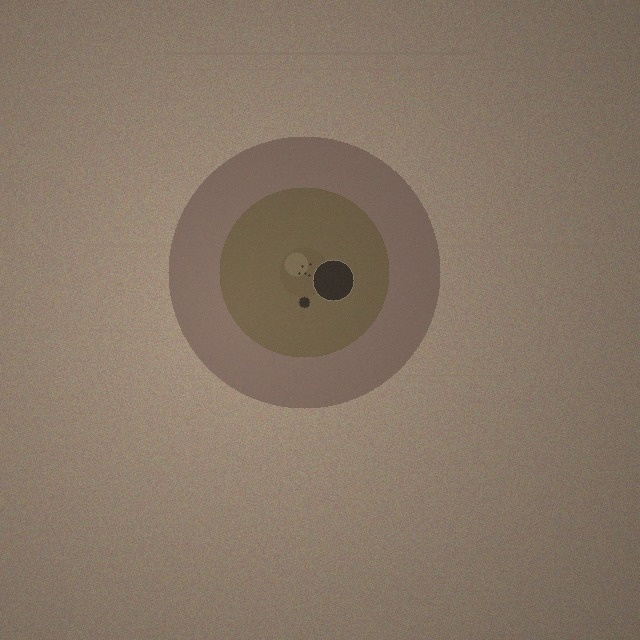shrinkage: (168, 136, 440, 408)
